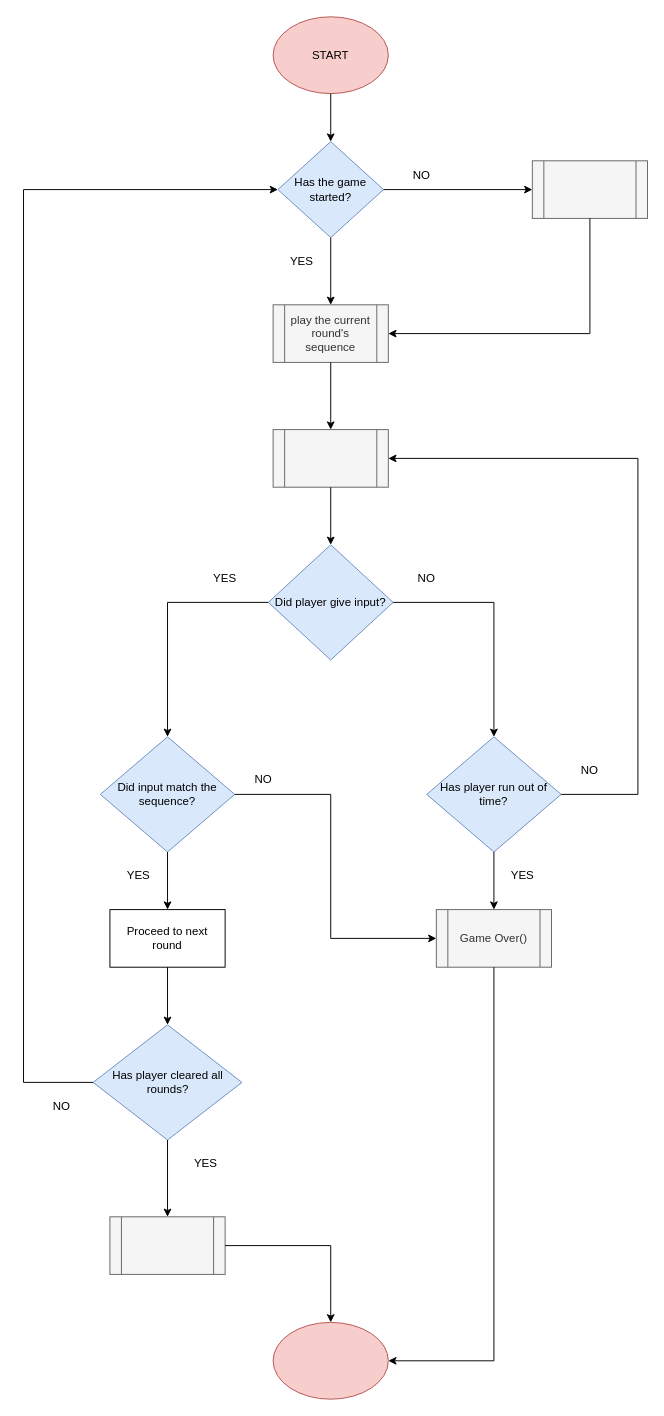
This 664x1416 diagram has some shape labels left out. Here are the shapes that lost their labels. From the top down, the box of each, then its label:
(531, 160, 648, 218): startGame()
(272, 429, 388, 487): Get player input()
(109, 1216, 225, 1274): Player Wins()
(272, 1321, 388, 1399): END
